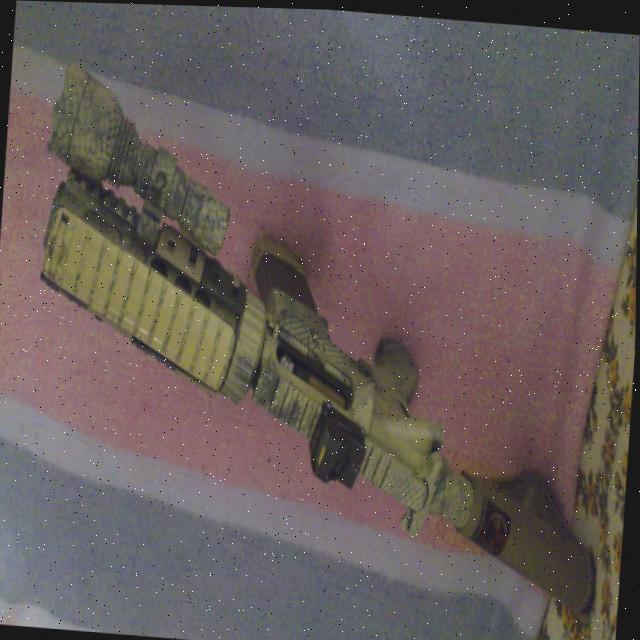firearm: (21, 61, 629, 616)
